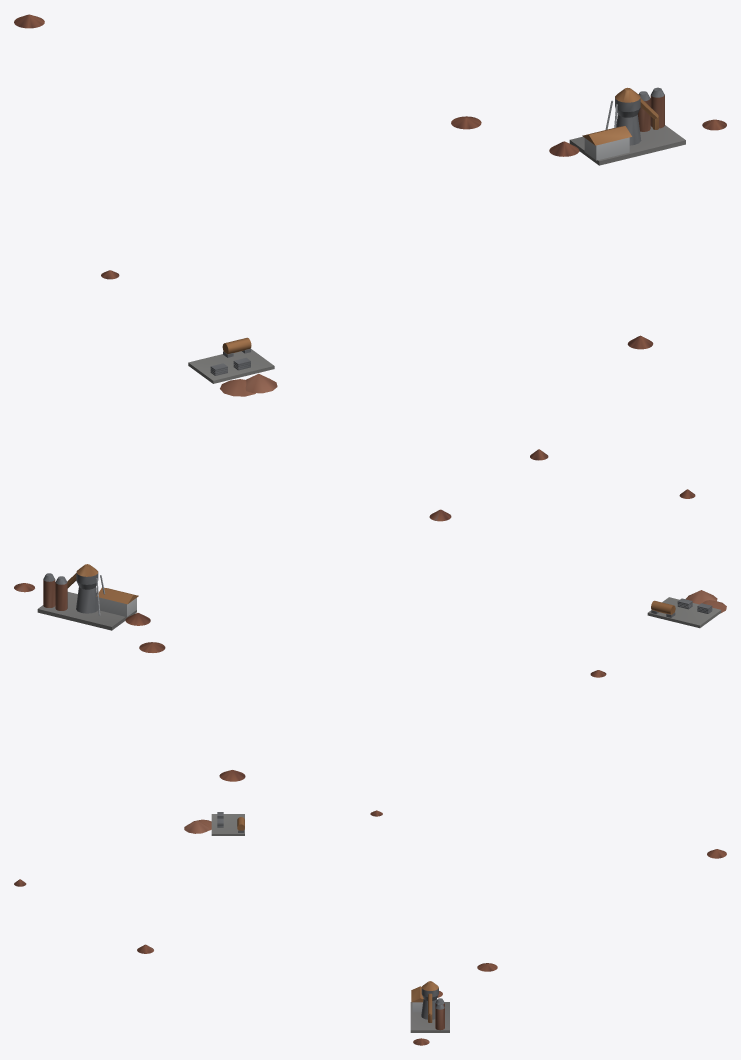
Rendered from Theme_P1.fbx.
The picture shows the model from 3 angles, top to bottom: view 1: azimuth 30°, elevation 25°; view 2: azimuth 150°, elevation 25°; view 3: azimuth 270°, elevation 25°; orthographic projection. The views are drawn at different scales.
Parts seen in each view (by area): view 1: Theme.BlastFurnace, Theme.IngotYard, Theme.SlagBank; view 2: Theme.BlastFurnace, Theme.IngotYard; view 3: Theme.BlastFurnace, Theme.IngotYard.
Part boxes in pixels (x1=…): Theme.BlastFurnace: x1=569, y1=87, x2=685, y2=165; Theme.IngotYard: x1=188, y1=337, x2=274, y2=383; Theme.SlagBank: x1=220, y1=373, x2=277, y2=396; Theme.BlastFurnace: x1=37, y1=564, x2=138, y2=630; Theme.IngotYard: x1=647, y1=597, x2=721, y2=628; Theme.BlastFurnace: x1=410, y1=981, x2=449, y2=1032; Theme.IngotYard: x1=211, y1=812, x2=244, y2=835.
Size of the model in its own units: 26208 by 2471 by 36176.
